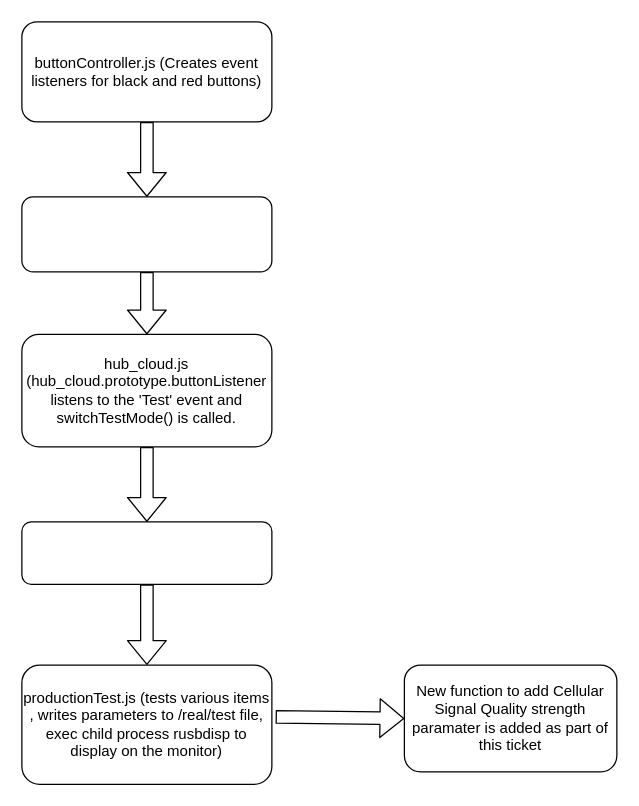
Image size: 639x806. Some labels were removed from this diagram. The centre of each missing label's shape, as x and y in pixels:
"on button sequence rrbr emits 'Test'" goes at (x=146, y=234).
"switchTestMode() function forks child process productionTest.js" goes at (x=146, y=552).
